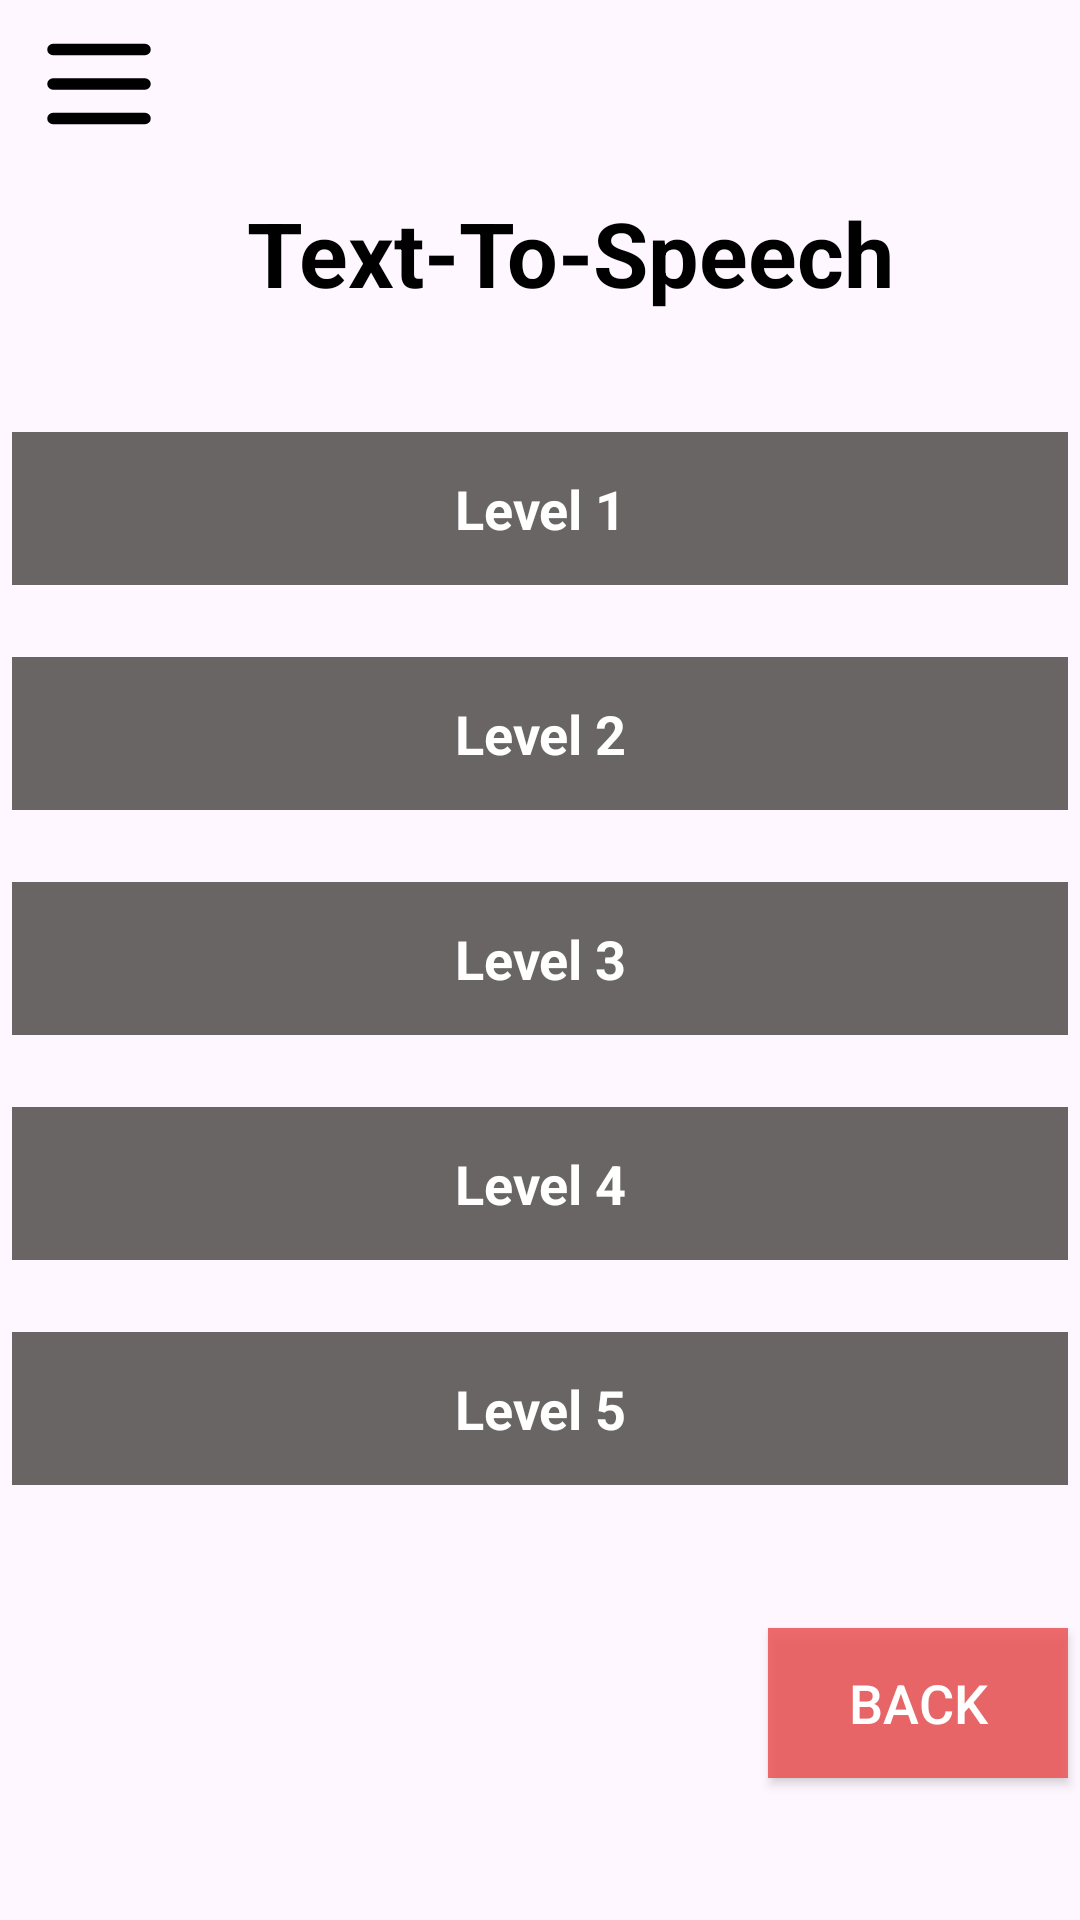

Icons on this 1080px x 1920px Android screen, each with the point to tap as [x,y]:
menu: [99,84]
